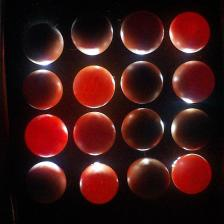fertile: (71, 10, 114, 56), (121, 108, 165, 152), (121, 10, 164, 55), (120, 61, 164, 104), (170, 108, 214, 151), (127, 158, 170, 201), (172, 61, 215, 104), (20, 23, 64, 65), (20, 69, 64, 110), (24, 161, 66, 202)
infertile: (72, 65, 116, 109), (72, 112, 116, 156), (25, 114, 68, 158), (169, 11, 211, 54), (79, 163, 119, 205), (171, 154, 212, 194)
